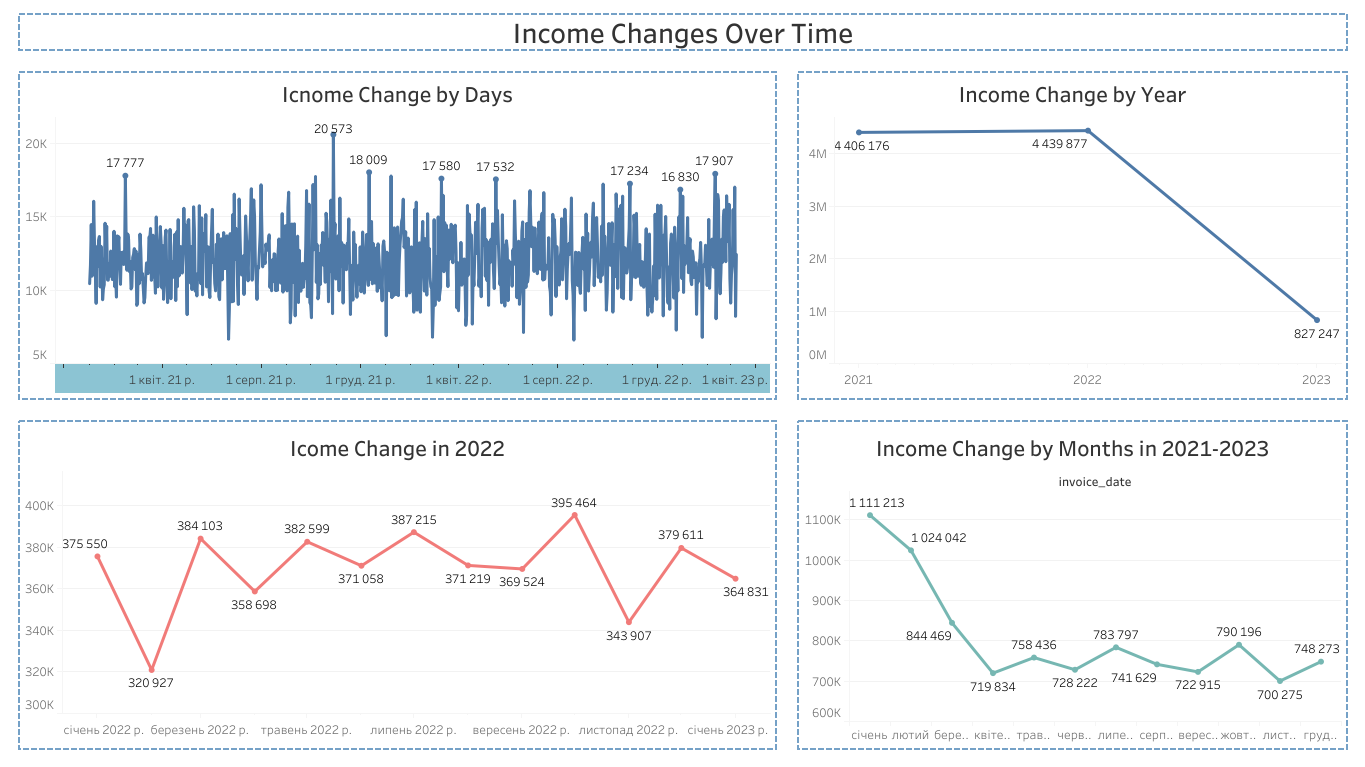

The dashboard page shown, as its layout file describes it:
{"tool":"tableau","page":{"name":"Time Changes","canvas":[1366,768],"ordinal":5},"visuals":[{"type":"title","box":[8,8,1350,53]},{"type":"worksheet","title":"income_days","mark":"Automatic","rows":["Calculation_1055569032224863"],"cols":["invoice_date"],"box":[8,61,779,349.4]},{"type":"worksheet","title":"income_change_years","mark":"Automatic","rows":["Calculation_1055569032224863"],"cols":["invoice_date"],"box":[787,61,571,349.4]},{"type":"worksheet","title":"income_change_2022","mark":"Automatic","rows":["Calculation_1055569032224863"],"cols":["invoice_date"],"box":[8,410.4,779,349.6]},{"type":"worksheet","title":"income_change_months","mark":"Automatic","rows":["Calculation_1055569032224863"],"cols":["invoice_date"],"box":[787,410.4,571,349.6]}]}

Visuals, with their boxes in screenshot pixels (x1, y1, x2, y2), scaled from the page's 1366x768 canvas onto the 1365x767 screenshot:
title: [left=8, top=8, right=1357, bottom=61]
"income_days" worksheet: [left=8, top=61, right=786, bottom=410]
"income_change_years" worksheet: [left=786, top=61, right=1357, bottom=410]
"income_change_2022" worksheet: [left=8, top=410, right=786, bottom=759]
"income_change_months" worksheet: [left=786, top=410, right=1357, bottom=759]
